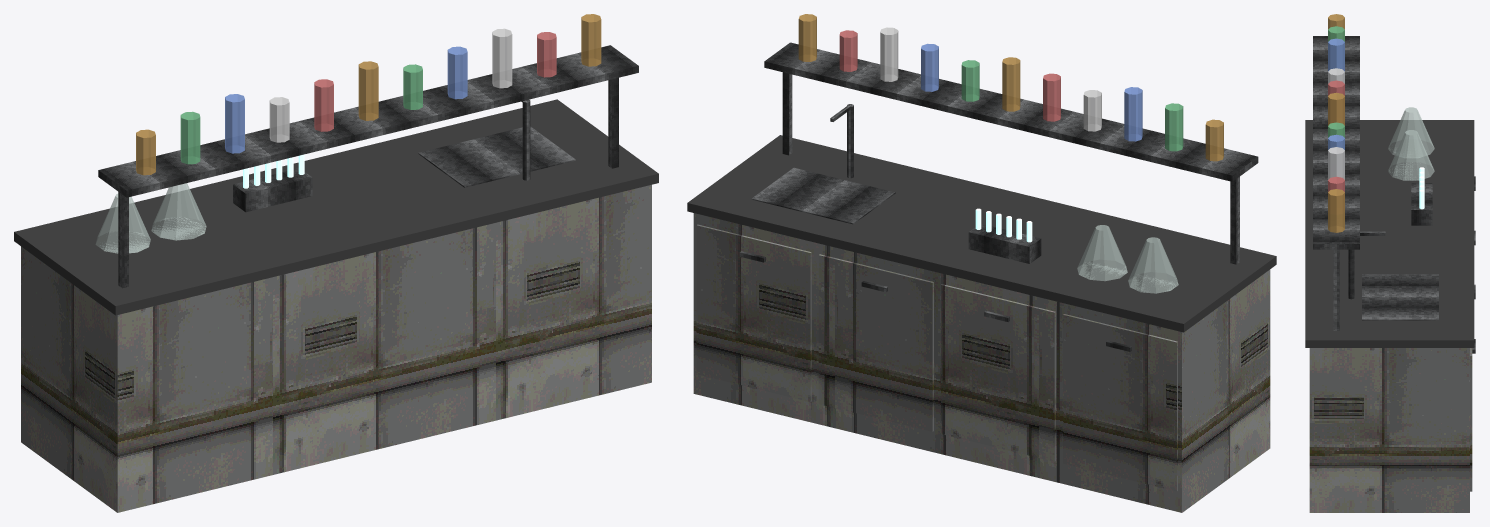
Rendered from lab_bench.glb.
3 views of the same model, side by side, from view 1: azimuth 30°, elevation 25°; view 2: azimuth 150°, elevation 25°; view 3: azimuth 270°, elevation 25° (orthographic). The views are drawn at different scales.
Visible parts, largest first — view 1: lab_bench; view 2: lab_bench; view 3: lab_bench.
Part boxes in pixels (x1,y1,x2,y2): lab_bench: (14,14,658,512); lab_bench: (687,14,1276,512); lab_bench: (1305,14,1475,512).
Bounding box in the file's own units: 2.44 × 1.59 × 0.795.
11 materials, 3 textured.
